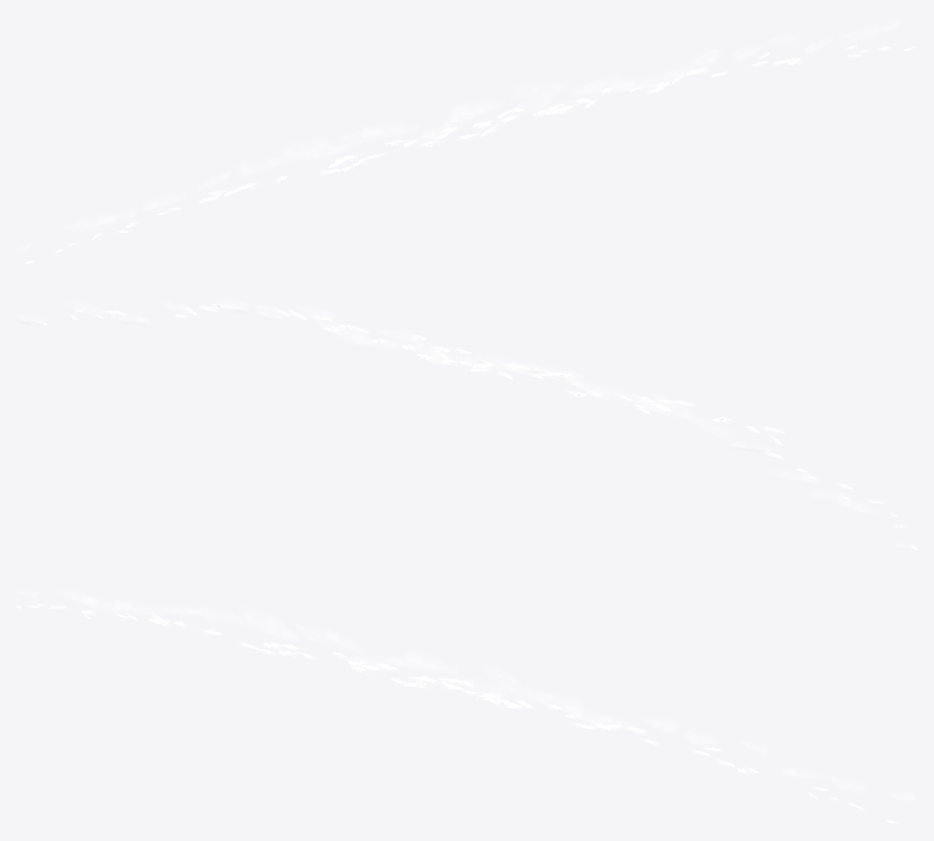
File: wave_spray.glb
3 views of the same model, one above another, from view 1: azimuth 30°, elevation 25°; view 2: azimuth 150°, elevation 25°; view 3: azimuth 330°, elevation 25° (orthographic).
Bounding box in the file's own units: 608 × 49.63 × 55.88.
2 materials, 2 textured.
